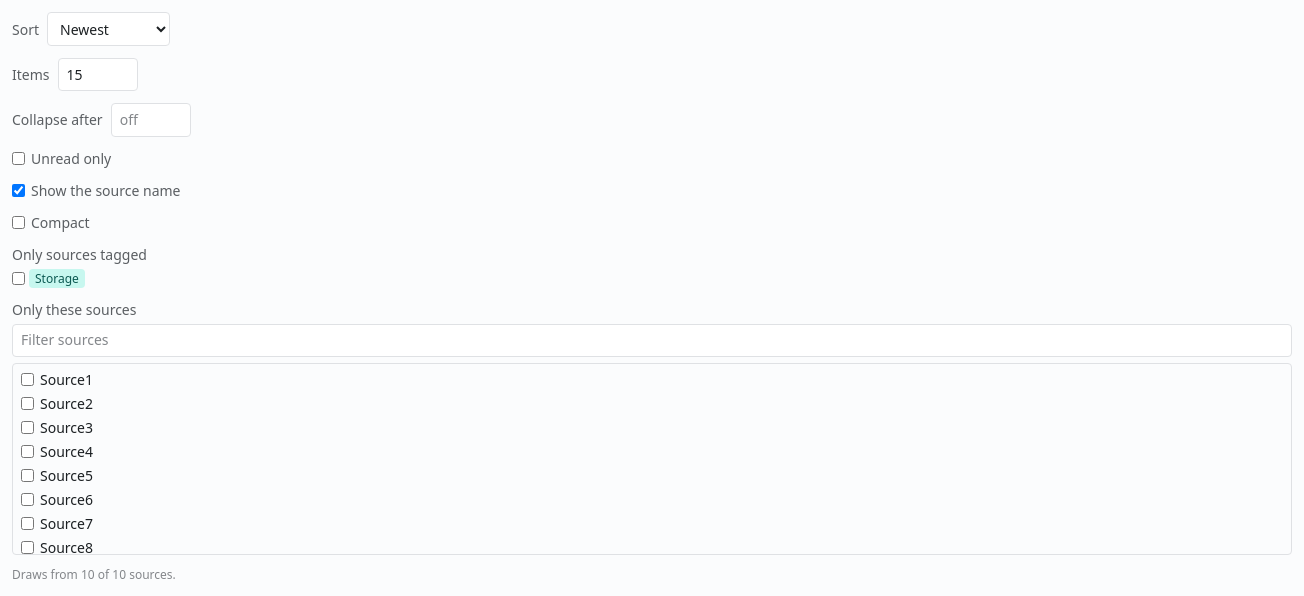
Test: searching the source list › says so when nothing matches the search
Type "nothing here" into the search field labelled "Filter sources" at coordinates (652, 340), box [12, 324, 1292, 357]
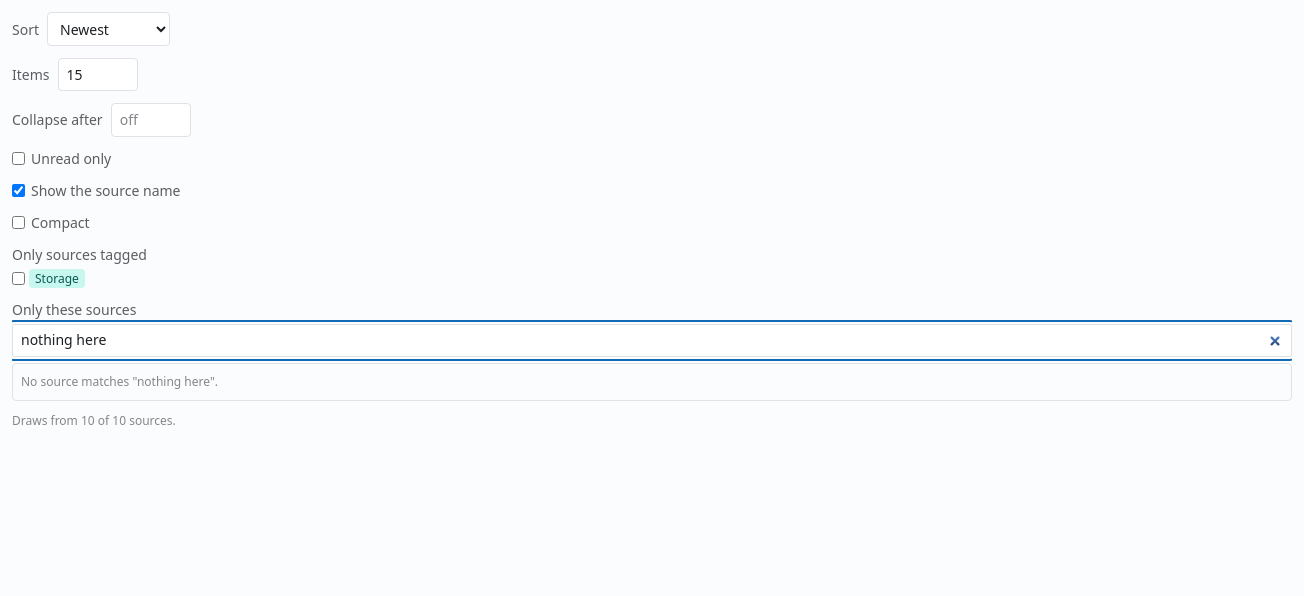
Expected: the text "No source matches \"nothing here\"." is shown, [21, 373, 218, 390]
